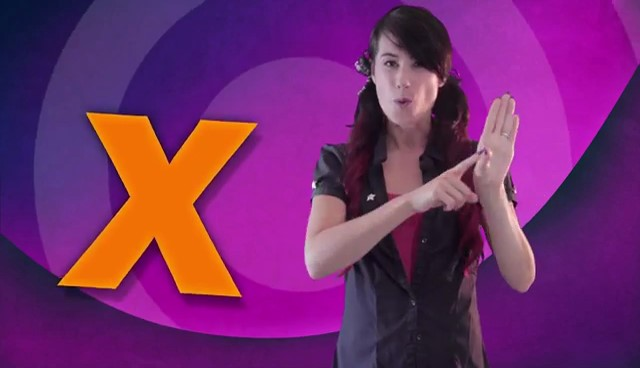Y: (409, 88, 530, 216)
